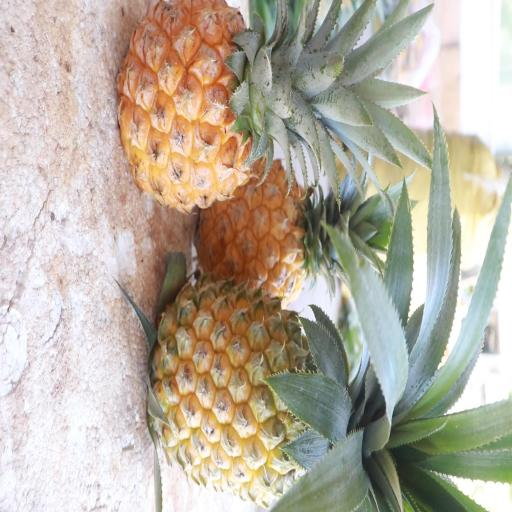Pineapple - v8 v1: (145, 268, 392, 498), (118, 2, 358, 212), (192, 148, 366, 310)
